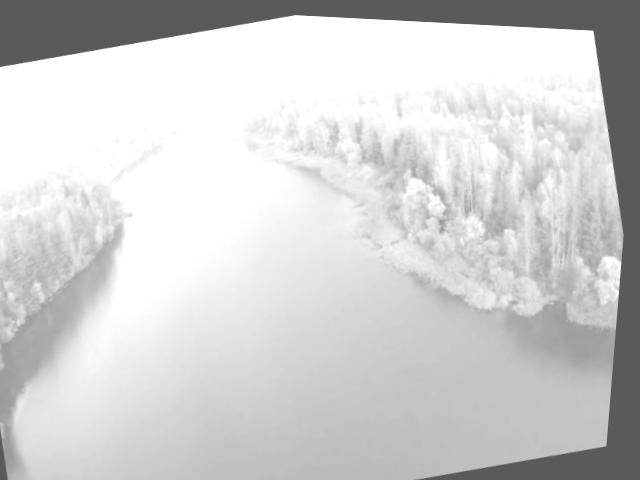hedef: (38, 65, 225, 216)
